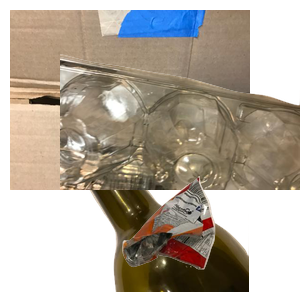cardboard: (10, 10, 250, 190)
glass: (60, 120, 300, 300)
plastic: (60, 52, 300, 232)
trash: (120, 174, 300, 300)
